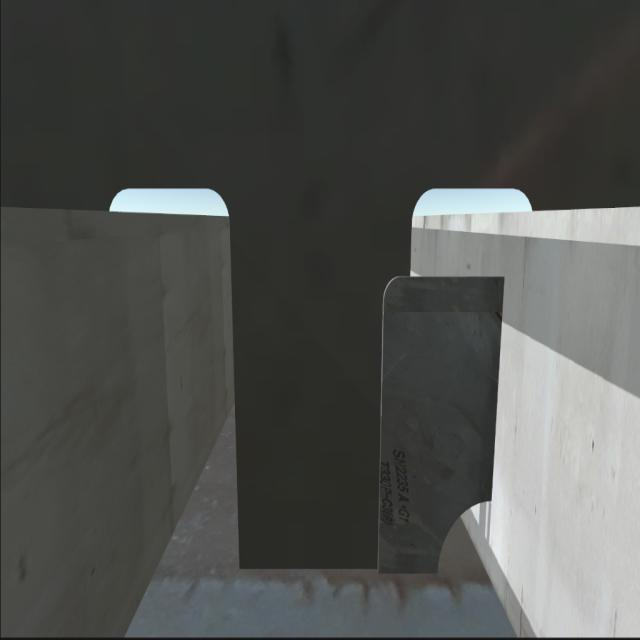fillet_hole: (438, 503, 490, 577)
fillet_yong_jeop_jang: (237, 554, 444, 585)
longi_yong_jeop_jang: (484, 268, 506, 506)
plate_CP05: (379, 277, 496, 584)
